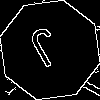J: (25, 25, 70, 78)
